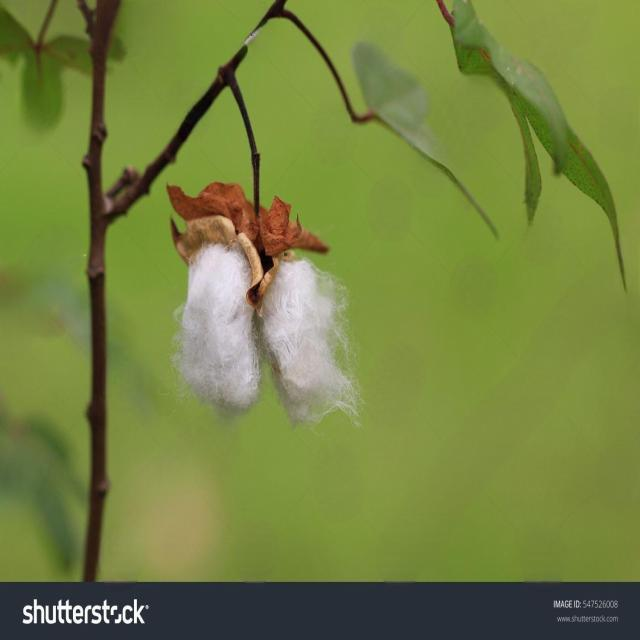Early_blight: (161, 169, 274, 435)
